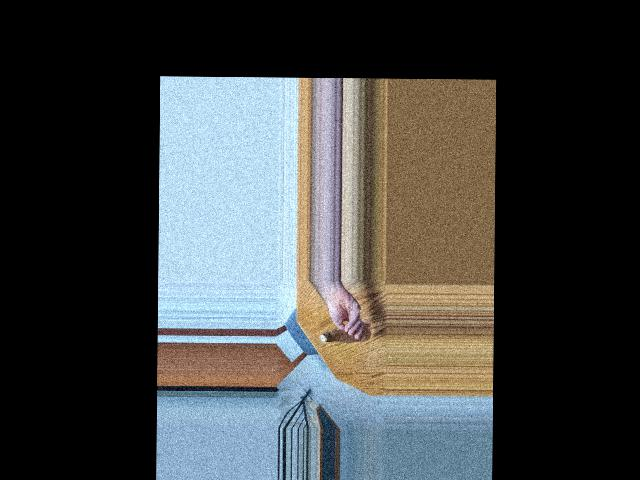sweet_potato: (318, 330, 362, 342)
